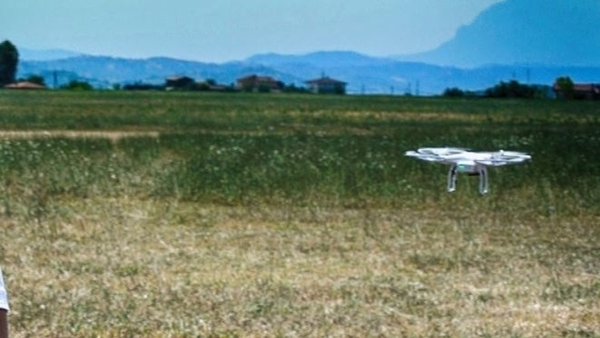drone: (402, 145, 532, 195)
